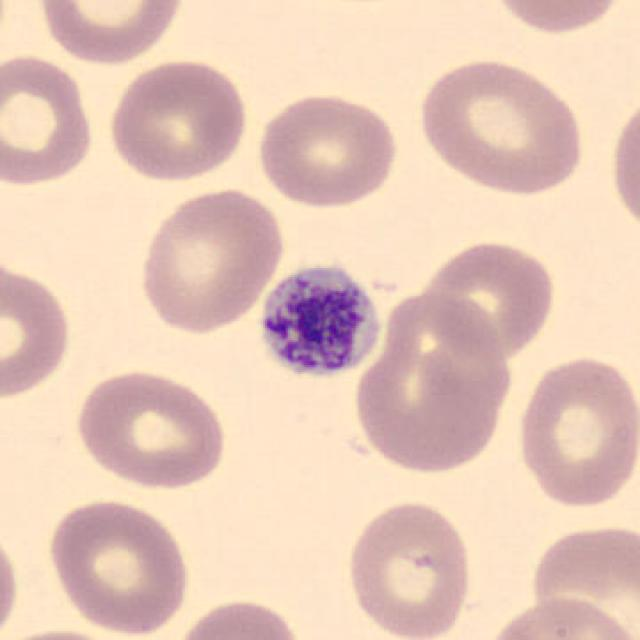Platelets: (251, 252, 389, 392)
RBC: (347, 286, 517, 480), (412, 53, 588, 197), (135, 183, 288, 335), (43, 496, 194, 636), (71, 365, 231, 492), (512, 351, 638, 511), (342, 495, 476, 640), (103, 55, 251, 185), (252, 86, 402, 210), (418, 235, 558, 362), (0, 50, 98, 190), (526, 518, 640, 636), (0, 257, 75, 404), (34, 0, 188, 67), (480, 592, 635, 640), (170, 594, 308, 640), (485, 0, 631, 37), (606, 90, 640, 243), (0, 518, 23, 640), (0, 624, 133, 640)
